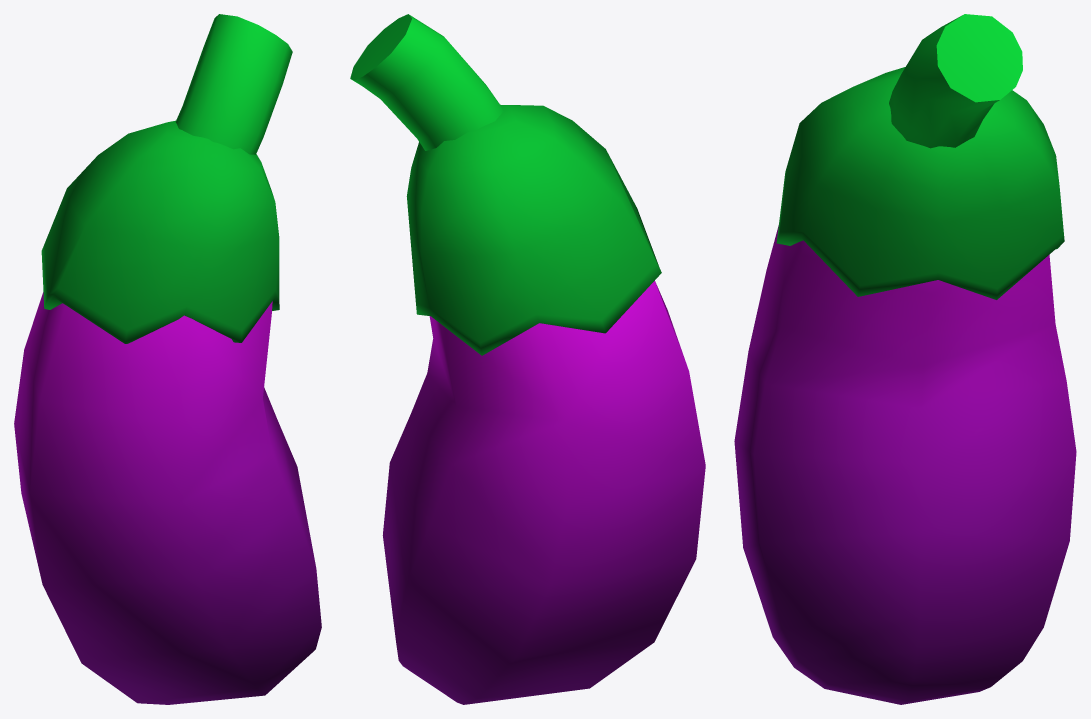
The model's file is Farm_Crop_Eggplant_01.fbx.
The picture shows the model from 3 angles, left to right: view 1: azimuth 30°, elevation 25°; view 2: azimuth 150°, elevation 25°; view 3: azimuth 270°, elevation 25°; orthographic projection. The views are drawn at different scales.
Parts seen in each view (by area): view 1: Farm_Crop_Eggplant_01; view 2: Farm_Crop_Eggplant_01; view 3: Farm_Crop_Eggplant_01.
Part boxes in pixels (x1=…): Farm_Crop_Eggplant_01: x1=14, y1=14, x2=321, y2=704; Farm_Crop_Eggplant_01: x1=350, y1=14, x2=705, y2=704; Farm_Crop_Eggplant_01: x1=734, y1=14, x2=1076, y2=704.
Bounding box in the file's own units: 40.16 × 83.84 × 36.36.
